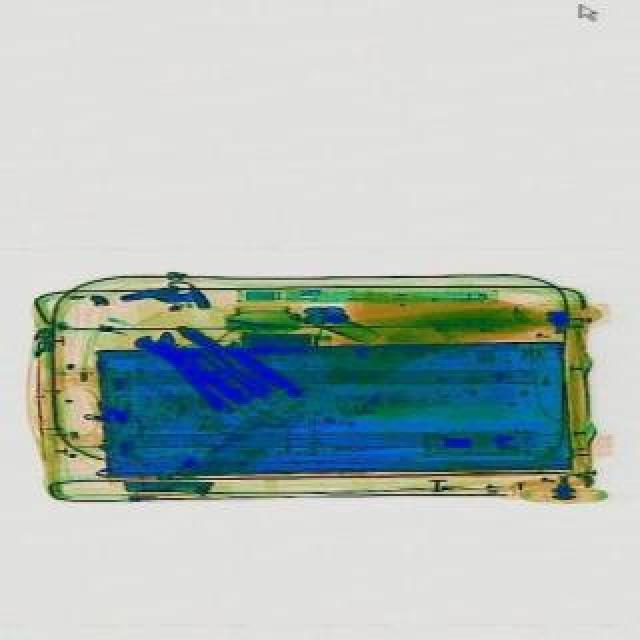scissors: (132, 320, 238, 422)
wrench: (164, 312, 284, 406)
